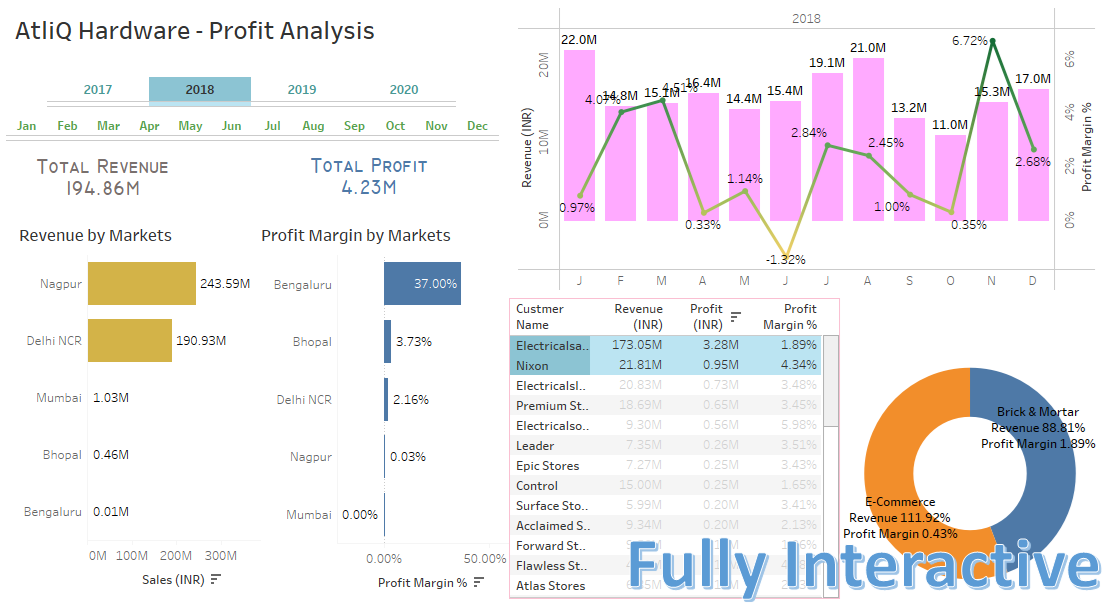

The dashboard page shown, as its layout file describes it:
{"tool":"tableau","page":{"name":"AtliQ_Profit_Dashboard","canvas":[1100,600],"ordinal":0},"visuals":[{"type":"title","box":[8,8,1084,43]},{"type":"worksheet","title":"Sales vs Profit %","mark":"Bar","rows":["Calculation_749004940204163072","Calculation_885520304392323072"],"cols":["order_date","order_date"],"box":[518,8.4,578,283.2]},{"type":"worksheet","title":"Year Filter","mark":"Automatic","cols":["date"],"box":[47,77,426,32]},{"type":"worksheet","title":"Month Filter","mark":"Automatic","cols":["date"],"box":[6,115,502,34]},{"type":"worksheet","title":"Ravenue","mark":"Automatic","box":[17,141,191,73]},{"type":"worksheet","title":"Profit","mark":"Automatic","box":[299,154,143,61]},{"type":"worksheet","title":"Ravenue by Market","mark":"Automatic","rows":["markets_name"],"cols":["Calculation_749004940204163072"],"box":[15,218,245,377]},{"type":"worksheet","title":"Profit by Market","mark":"Automatic","rows":["markets_name"],"cols":["Calculation_885520304392323072"],"box":[257,218,251,380]},{"type":"worksheet","title":"Customer Analysis","mark":"Automatic","rows":["custmer_name"],"box":[509,297.6,331,301.2]},{"type":"worksheet","title":"Customer Type","mark":"Pie","rows":["Calculation_1151514157662695424","Calculation_1151514157662695424"],"box":[843,352,255,243]}]}

Visuals, with their boxes in screenshot pixels (x1, y1, x2, y2), scaled from the page's 1100x600 canvas onto the 1113x612 screenshot:
title: (x1=8, y1=8, x2=1105, y2=52)
"Sales vs Profit %" worksheet (Bar marks): (x1=524, y1=9, x2=1109, y2=297)
"Year Filter" worksheet: (x1=48, y1=79, x2=479, y2=111)
"Month Filter" worksheet: (x1=6, y1=117, x2=514, y2=152)
"Ravenue" worksheet: (x1=17, y1=144, x2=210, y2=218)
"Profit" worksheet: (x1=303, y1=157, x2=447, y2=219)
"Ravenue by Market" worksheet: (x1=15, y1=222, x2=263, y2=607)
"Profit by Market" worksheet: (x1=260, y1=222, x2=514, y2=610)
"Customer Analysis" worksheet: (x1=515, y1=304, x2=850, y2=611)
"Customer Type" worksheet (Pie marks): (x1=853, y1=359, x2=1111, y2=607)
